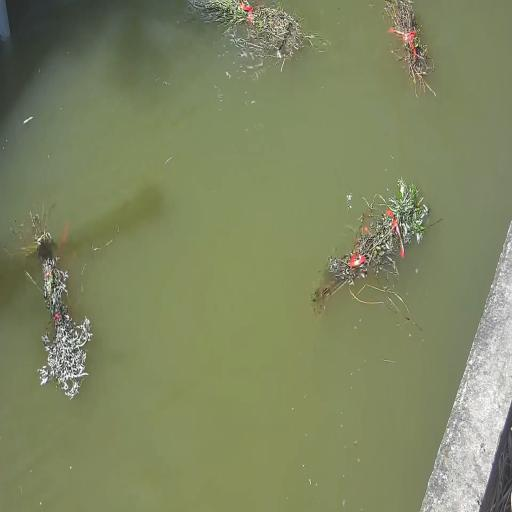twig: (6, 200, 100, 399), (311, 178, 432, 320), (185, 1, 316, 73), (382, 1, 435, 98)
